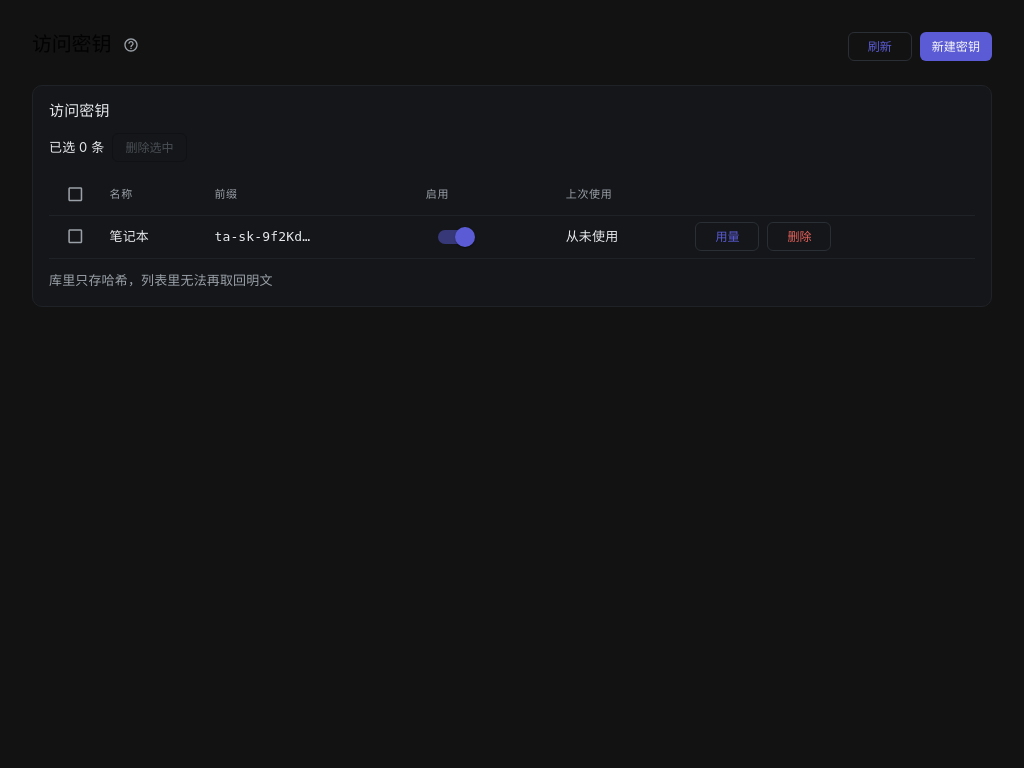
Scenario: [硬要求] 明文只在创建时出现一次，点「我已保存」后从界面上消失 › 创建后明文出现一次 + 提示语；点「我已保存」后 DOM 里再也找不到它
Expected: the element with test id "api-keys-page" is shown, [0, 85, 1023, 339]
Click the button with test id "api-keys-create": x=956, y=47 [920, 32, 992, 61]
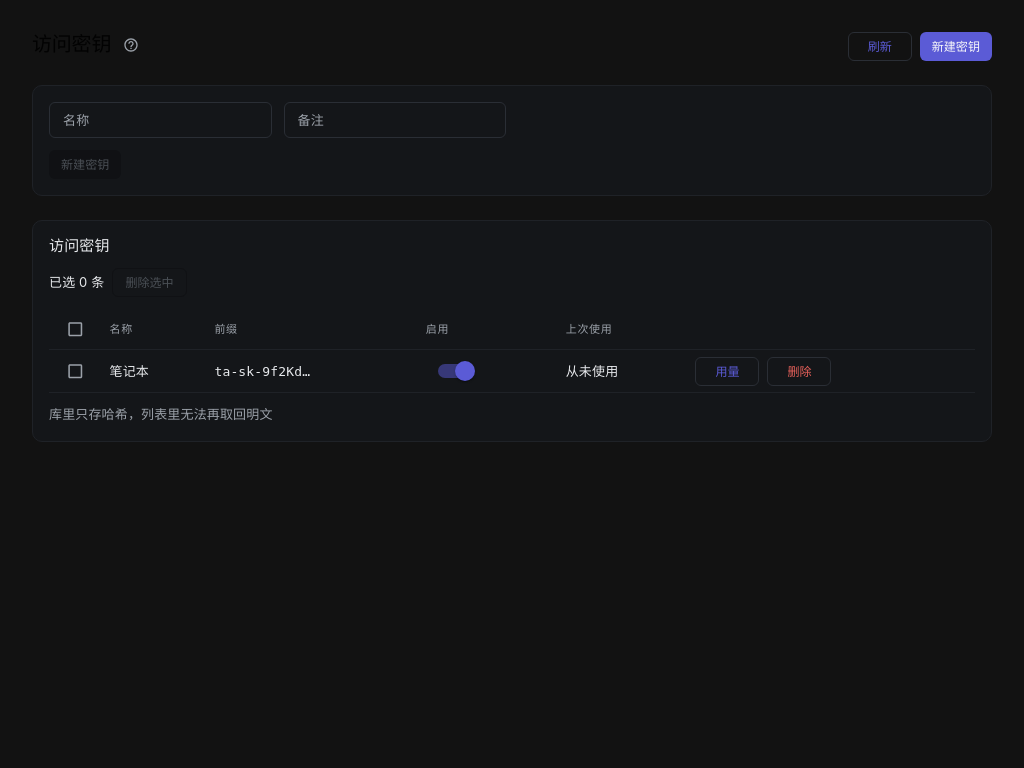
In the field labelled "名称": x=160, y=120 [49, 102, 272, 138], type "新密钥"
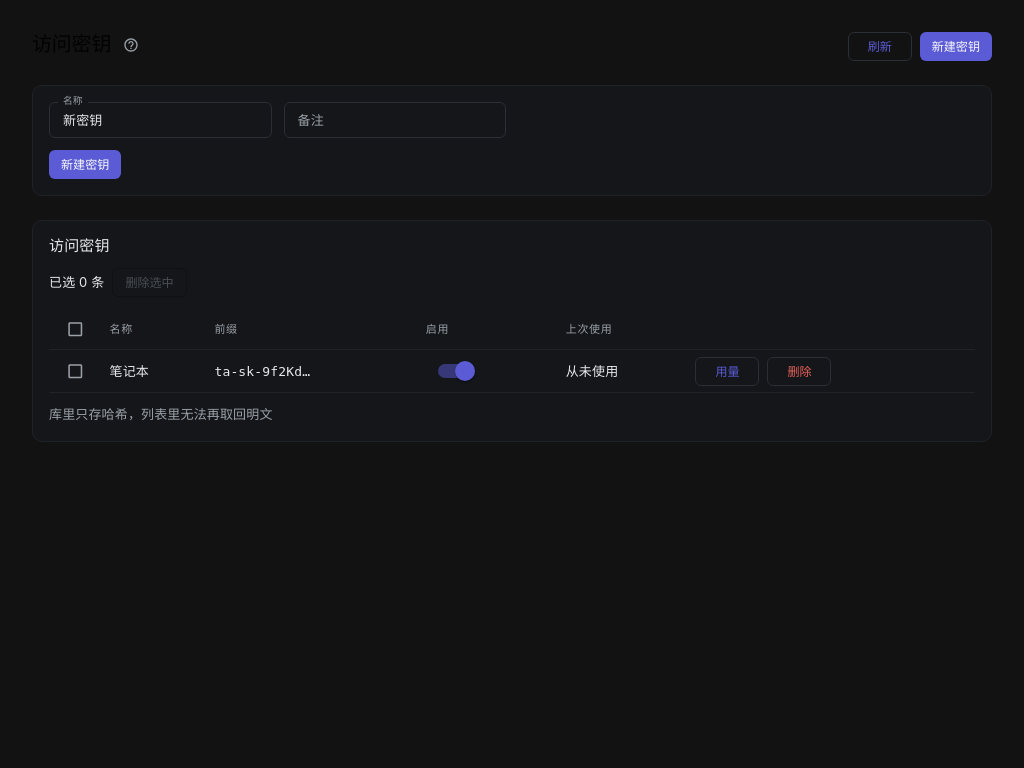
In the field labelled "备注": x=395, y=120 [284, 102, 506, 138], type "给 CI 用"
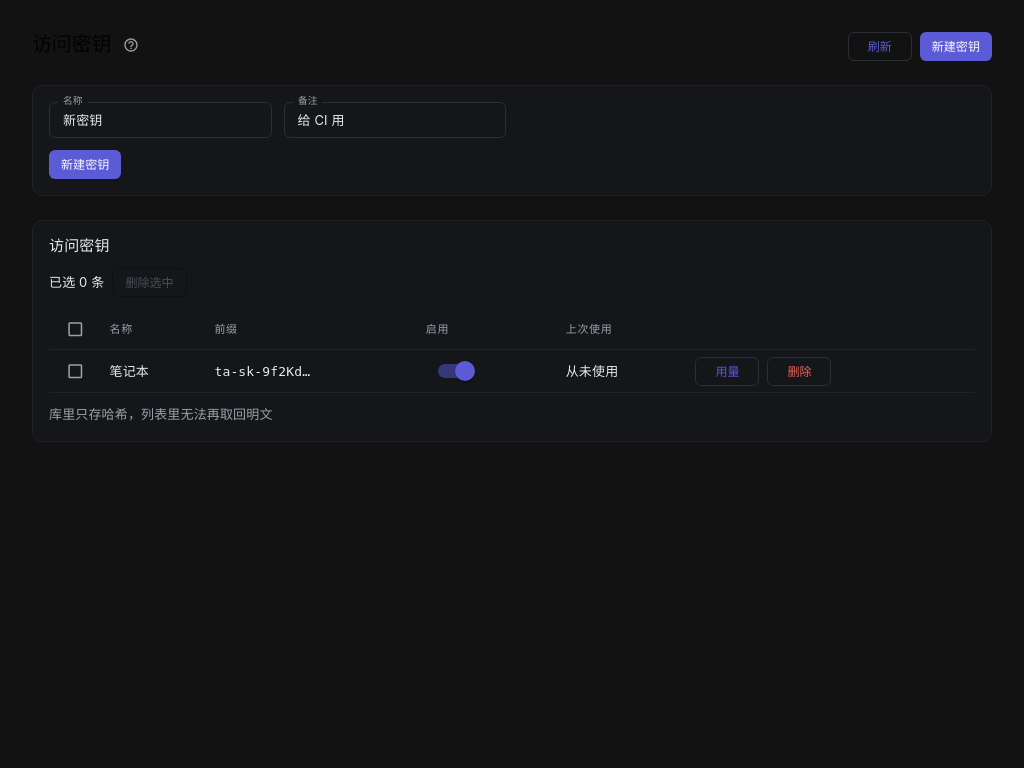
# 入参形状（契约）：snake_case 的 name / note
Click the button with test id "api-keys-create-submit": x=85, y=164 [49, 150, 121, 179]
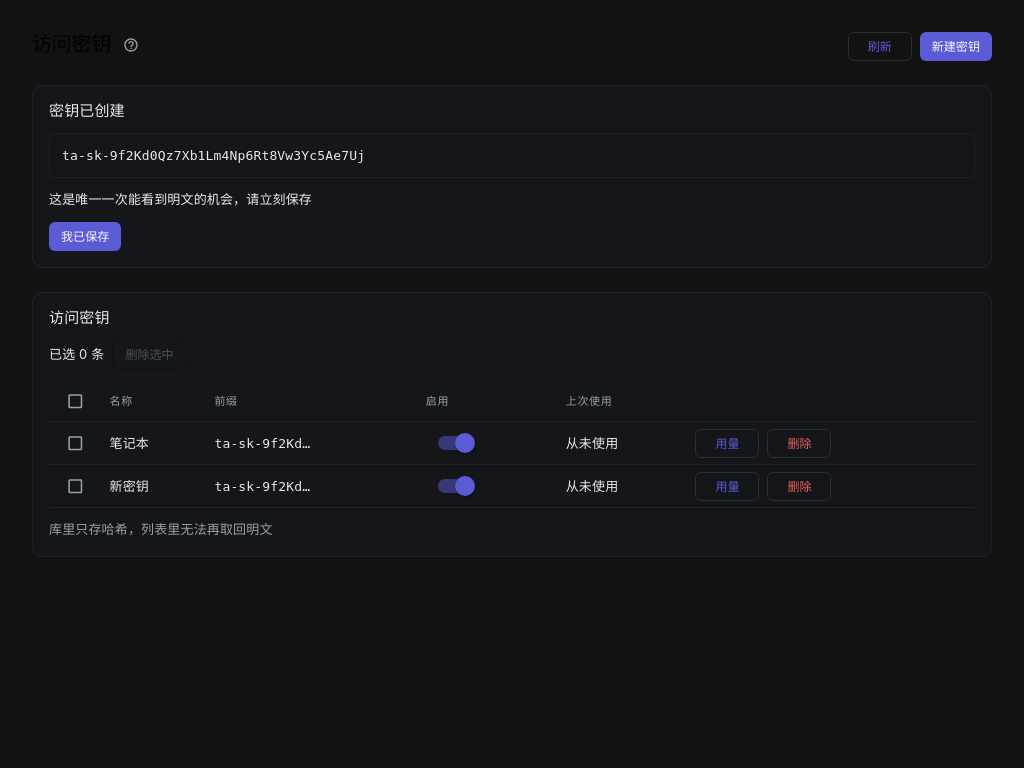
Now the text with test id "api-keys-created-hint" reads "这是唯一一次能看到明文的机会，请立刻保存", box [49, 191, 312, 207]
# ③ 点「我已保存」→ 明文从界面上消失
Click the button with test id "api-keys-created-done": x=85, y=236 [49, 222, 121, 251]
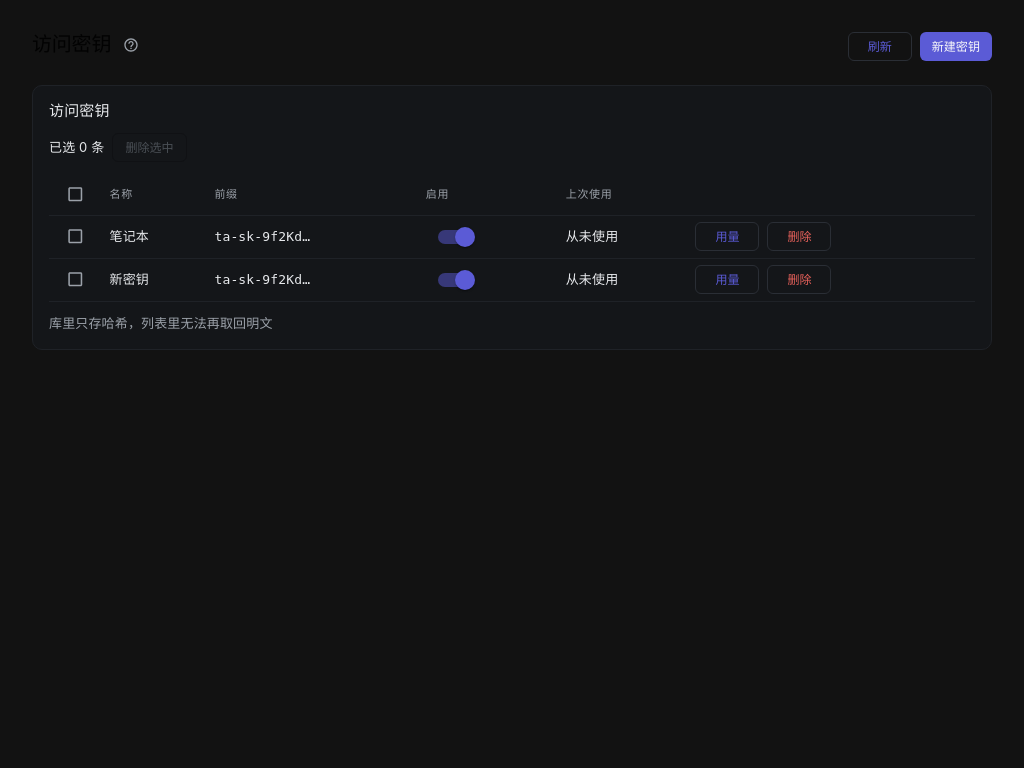
Now the element with test id "api-keys-created-plaintext" is gone
Now the text with test id "api-keys-created-hint" is gone
